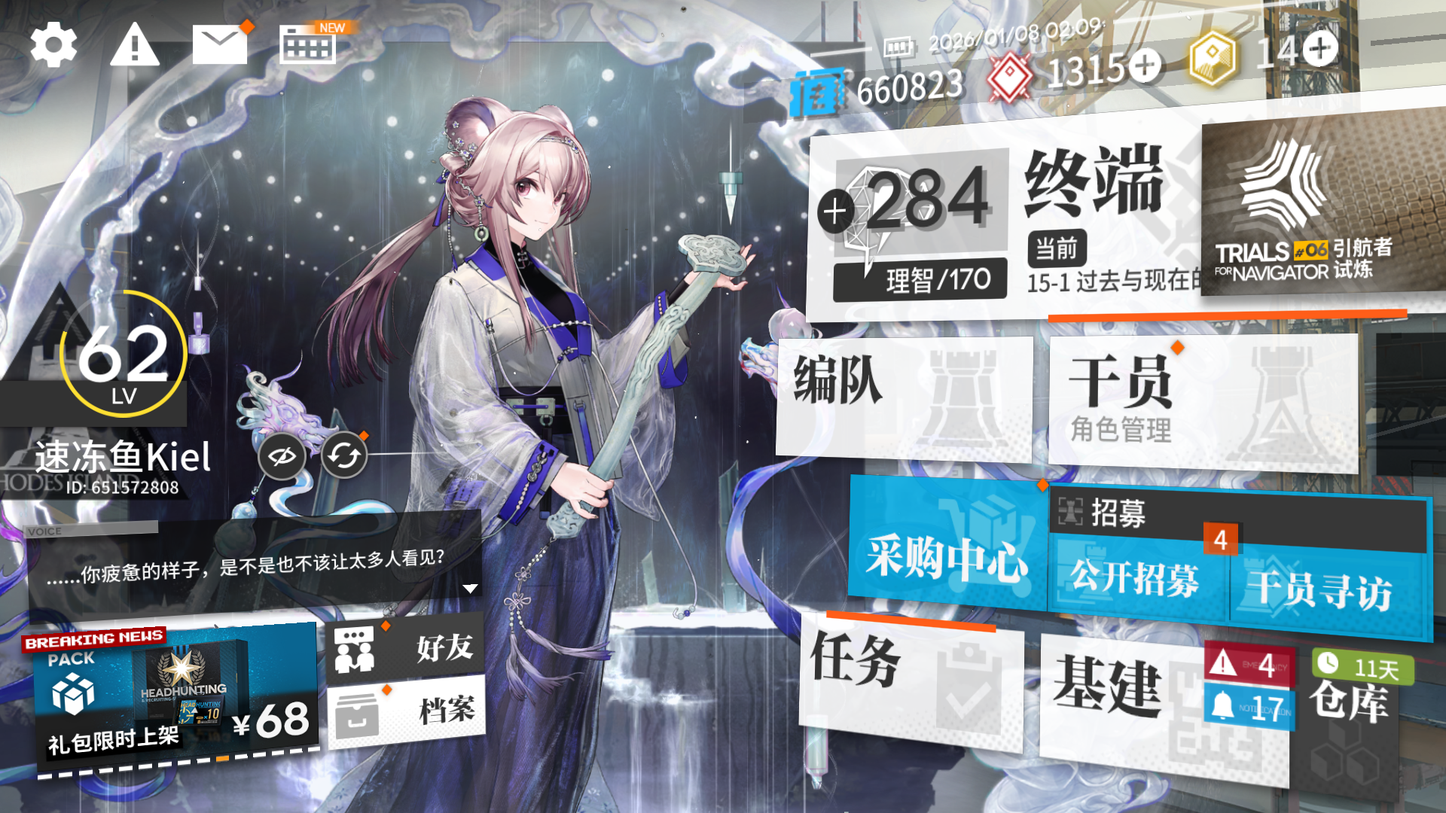home_button: (1024, 142, 1190, 243)
infrastructure_button: (1037, 639, 1280, 762)
